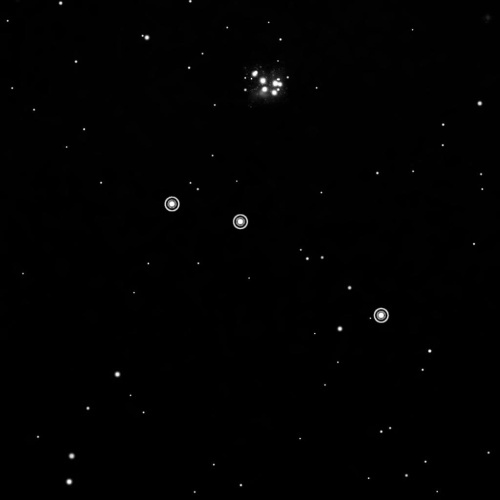vulpecula: (159, 191, 395, 327)
